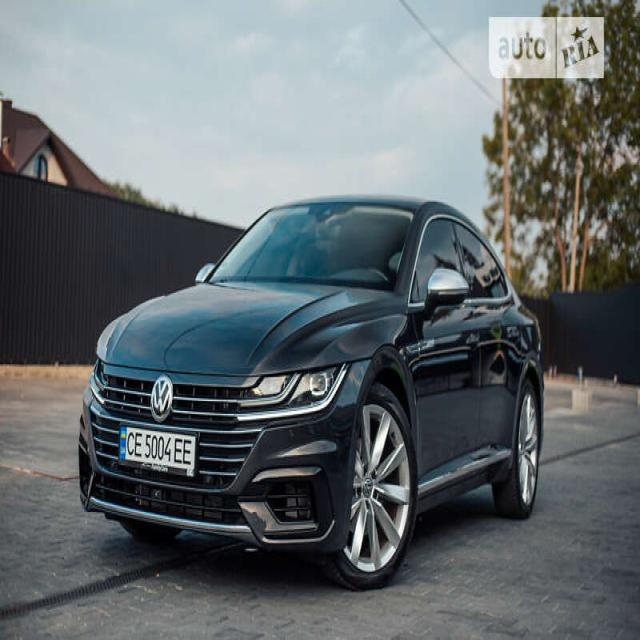plate: (114, 415, 204, 483)
